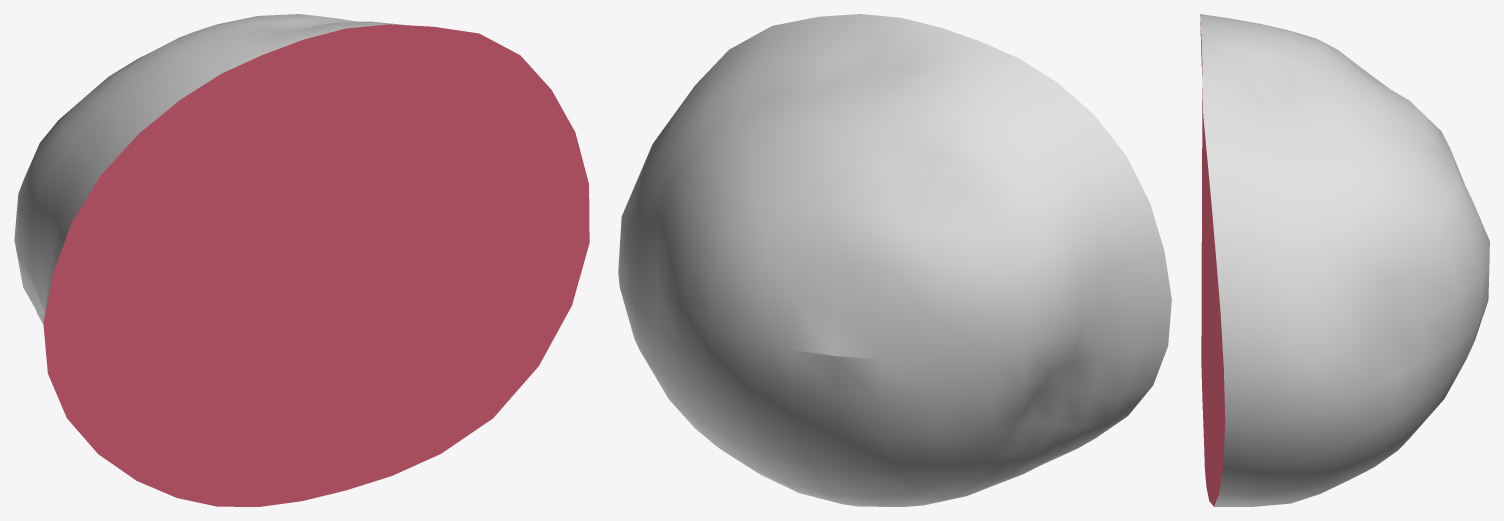
The model's file is potatopiece1.fbx.
The picture shows the model from 3 angles, left to right: view 1: azimuth 30°, elevation 25°; view 2: azimuth 150°, elevation 25°; view 3: azimuth 270°, elevation 25°; orthographic projection. The views are drawn at different scales.
Visible parts, largest first — view 1: potatopiece; view 2: potatopiece; view 3: potatopiece.
Boxes of the visible parts, x1=… form: potatopiece: x1=14, y1=14, x2=589, y2=506; potatopiece: x1=618, y1=14, x2=1171, y2=506; potatopiece: x1=1200, y1=14, x2=1489, y2=506.
Size of the model in its own units: 5.87 by 4.78 by 3.02.
